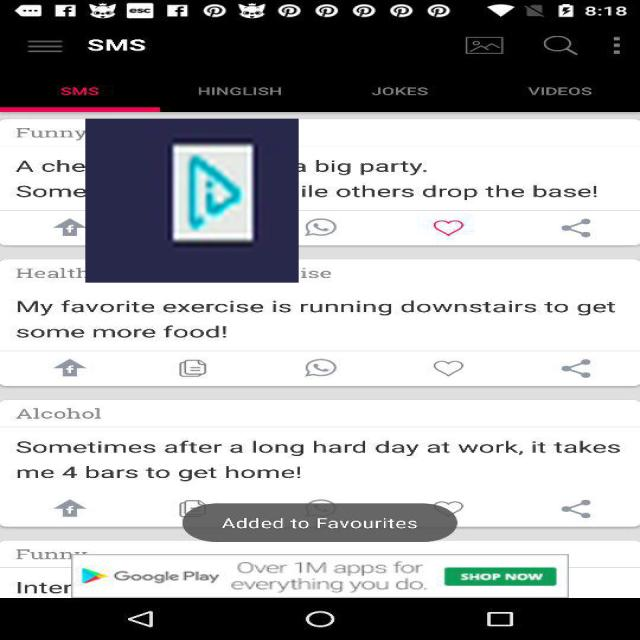sneaking: (85, 119, 299, 282)
